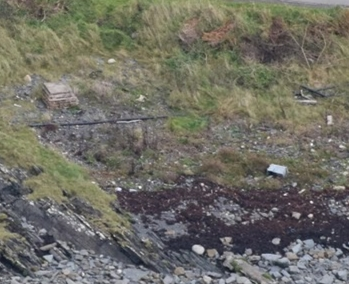boat_cabin: (34, 72, 85, 113)
tube: (120, 110, 173, 125), (28, 117, 77, 131), (78, 115, 118, 129)
white_in_green: (255, 149, 302, 188)
